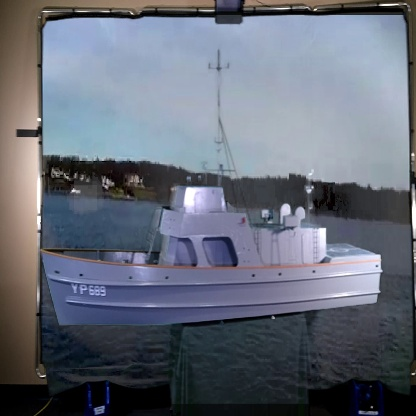YP689: (39, 45, 380, 331)
